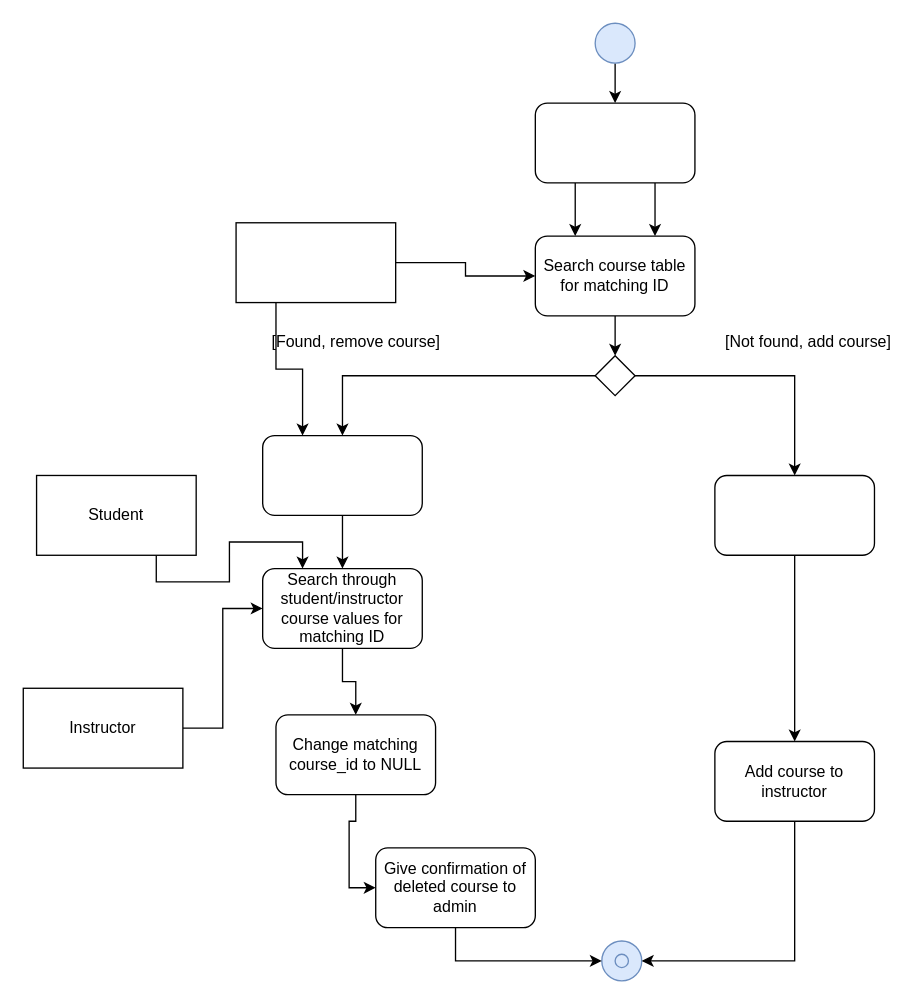
Some shapes in this 924 by 1004 pixel diagram are drawn without their labels. The shapes that lost their labels are listed below. From the top down, each one's box as (x1, y1, x2, y2) in pixels, then its label:
(534, 102, 695, 183): Enter course ID
(235, 221, 396, 303): Database
(261, 434, 422, 515): Remove data from database
(714, 474, 874, 555): Input title, department, instructor, etc
